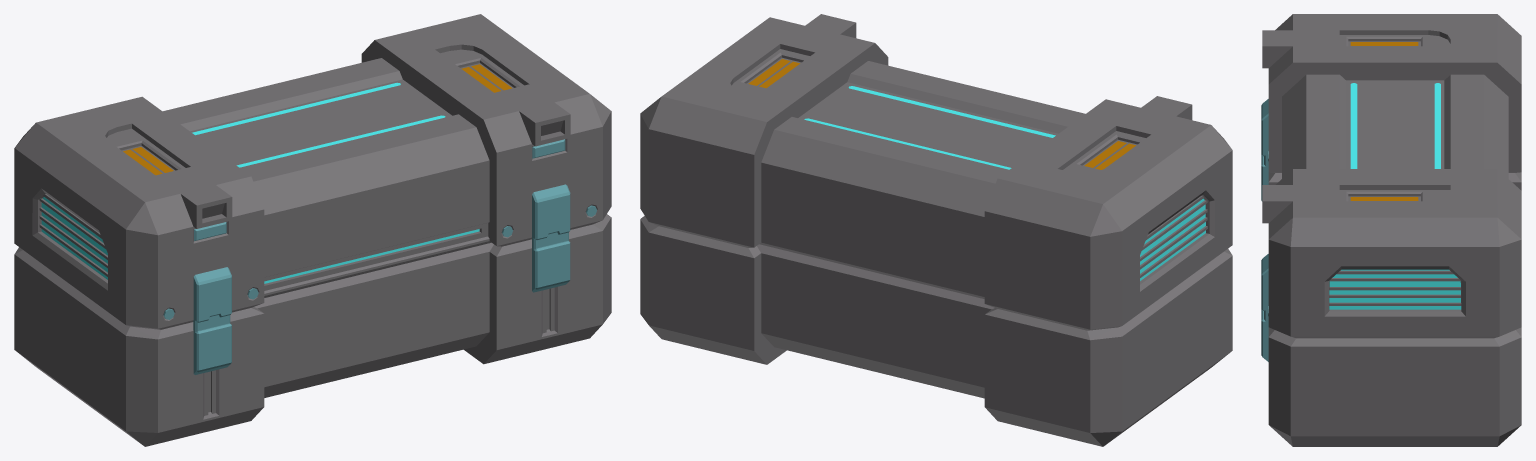
Rendered from SM_Props_Box_01.fbx.
3 views of the same model, side by side, from view 1: azimuth 30°, elevation 25°; view 2: azimuth 150°, elevation 25°; view 3: azimuth 270°, elevation 25° (orthographic). The views are drawn at different scales.
Parts seen in each view (by area): view 1: SM_Props_Box_01; view 2: SM_Props_Box_01; view 3: SM_Props_Box_01.
Boxes of the visible parts, x1,y1,x2,y2 form: SM_Props_Box_01: [14, 14, 611, 446]; SM_Props_Box_01: [640, 14, 1232, 446]; SM_Props_Box_01: [1261, 14, 1521, 446].
Size of the model in its own units: 1.19 by 0.5729 by 0.5898.
